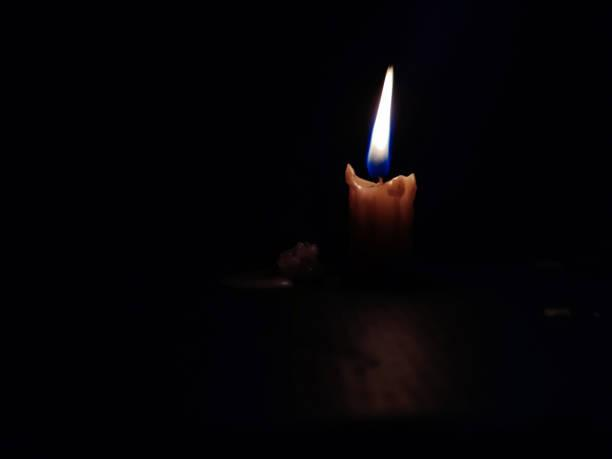Fire: (366, 62, 401, 181)
